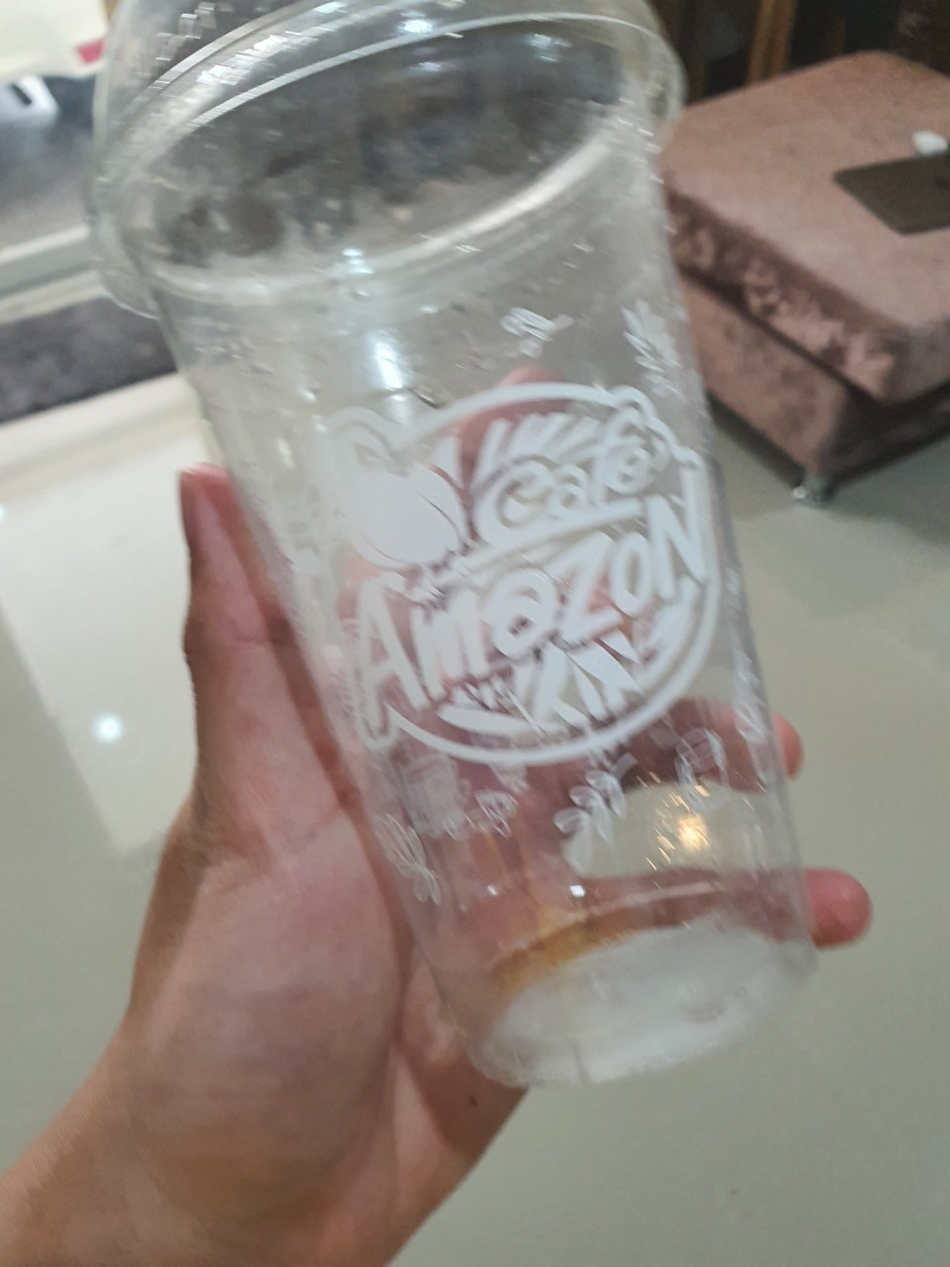plastic: (79, 0, 861, 1110)
